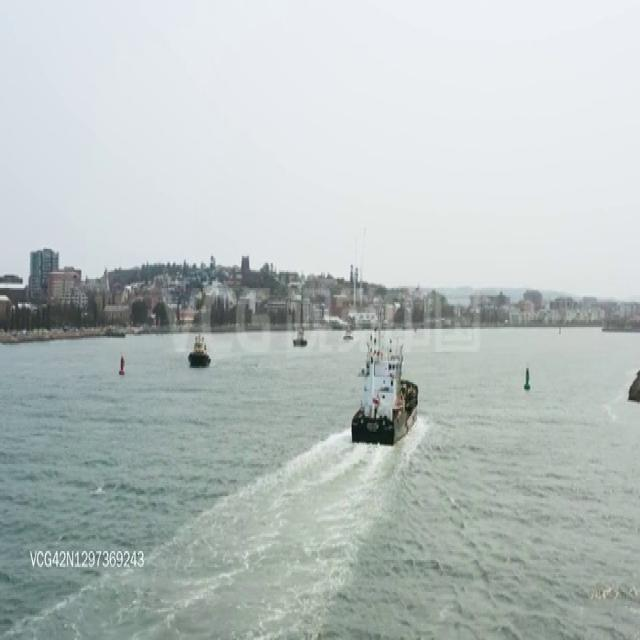houseboat: (347, 330, 422, 447), (188, 332, 211, 368), (292, 324, 308, 348), (343, 324, 351, 341)
